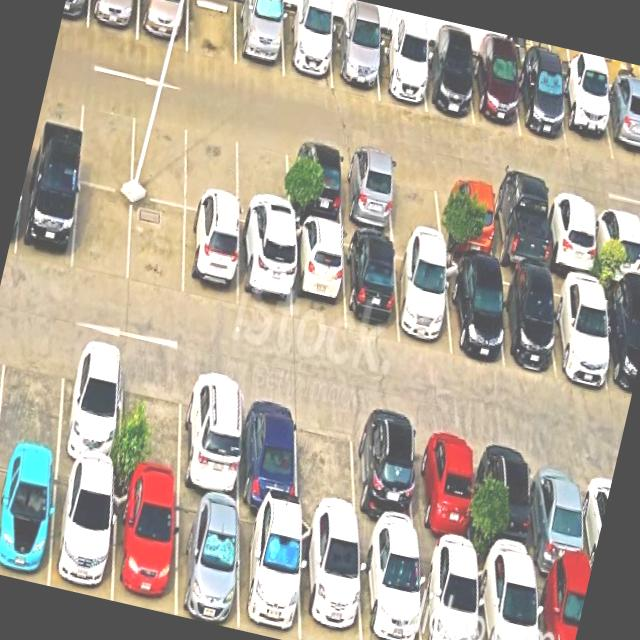empty: (118, 354, 183, 489), (0, 327, 65, 458), (298, 397, 356, 530), (131, 102, 189, 207), (72, 183, 132, 282), (128, 196, 185, 297), (78, 90, 134, 192), (237, 127, 288, 232), (185, 116, 237, 218), (388, 159, 442, 245), (186, 0, 235, 65)
occupied: (49, 462, 114, 600), (57, 339, 123, 474), (113, 477, 176, 615), (175, 491, 238, 629), (353, 409, 417, 543), (180, 368, 241, 503), (238, 506, 299, 640), (415, 421, 472, 557), (0, 451, 57, 585), (239, 382, 296, 514), (532, 446, 588, 579), (300, 519, 361, 640), (483, 435, 534, 568), (550, 275, 610, 388), (15, 165, 78, 270), (359, 535, 421, 640), (444, 257, 503, 367), (494, 268, 555, 374), (394, 244, 451, 355), (344, 232, 399, 339), (418, 545, 479, 640), (291, 221, 344, 330), (183, 209, 237, 307), (490, 183, 547, 273), (238, 223, 290, 320), (477, 558, 537, 640), (288, 139, 342, 227), (440, 172, 494, 259), (558, 76, 612, 159), (341, 150, 393, 236), (601, 285, 640, 399), (546, 193, 597, 278), (516, 63, 566, 148), (471, 54, 520, 135), (422, 47, 473, 124), (594, 203, 640, 288), (534, 569, 589, 640), (282, 10, 332, 88), (375, 36, 425, 111), (236, 0, 283, 77), (332, 25, 378, 98), (600, 85, 640, 166), (137, 0, 188, 51), (87, 0, 138, 39)
